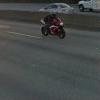Motorcycle: (34, 10, 82, 42)
